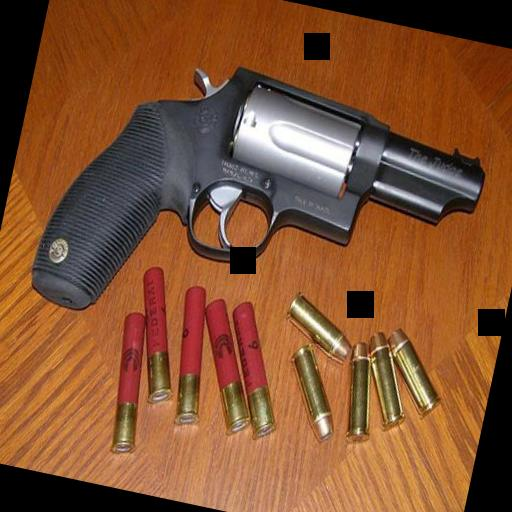Handgun: (21, 28, 497, 387)
